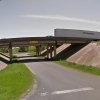Bridge: (2, 22, 83, 60)
